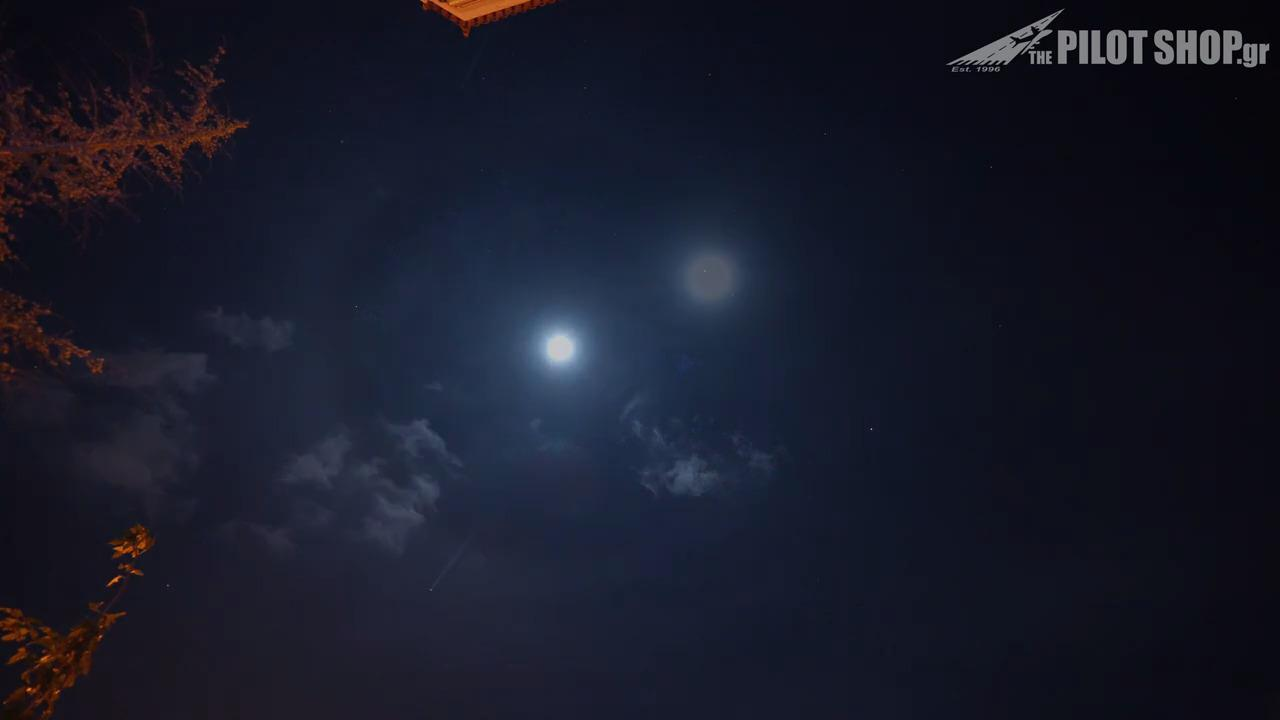Plane: (404, 538, 506, 606)
